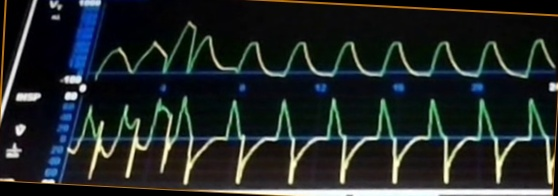Double_Triggering Flow: (66, 94, 534, 183)
Double_Triggering Volume: (95, 21, 525, 80)
